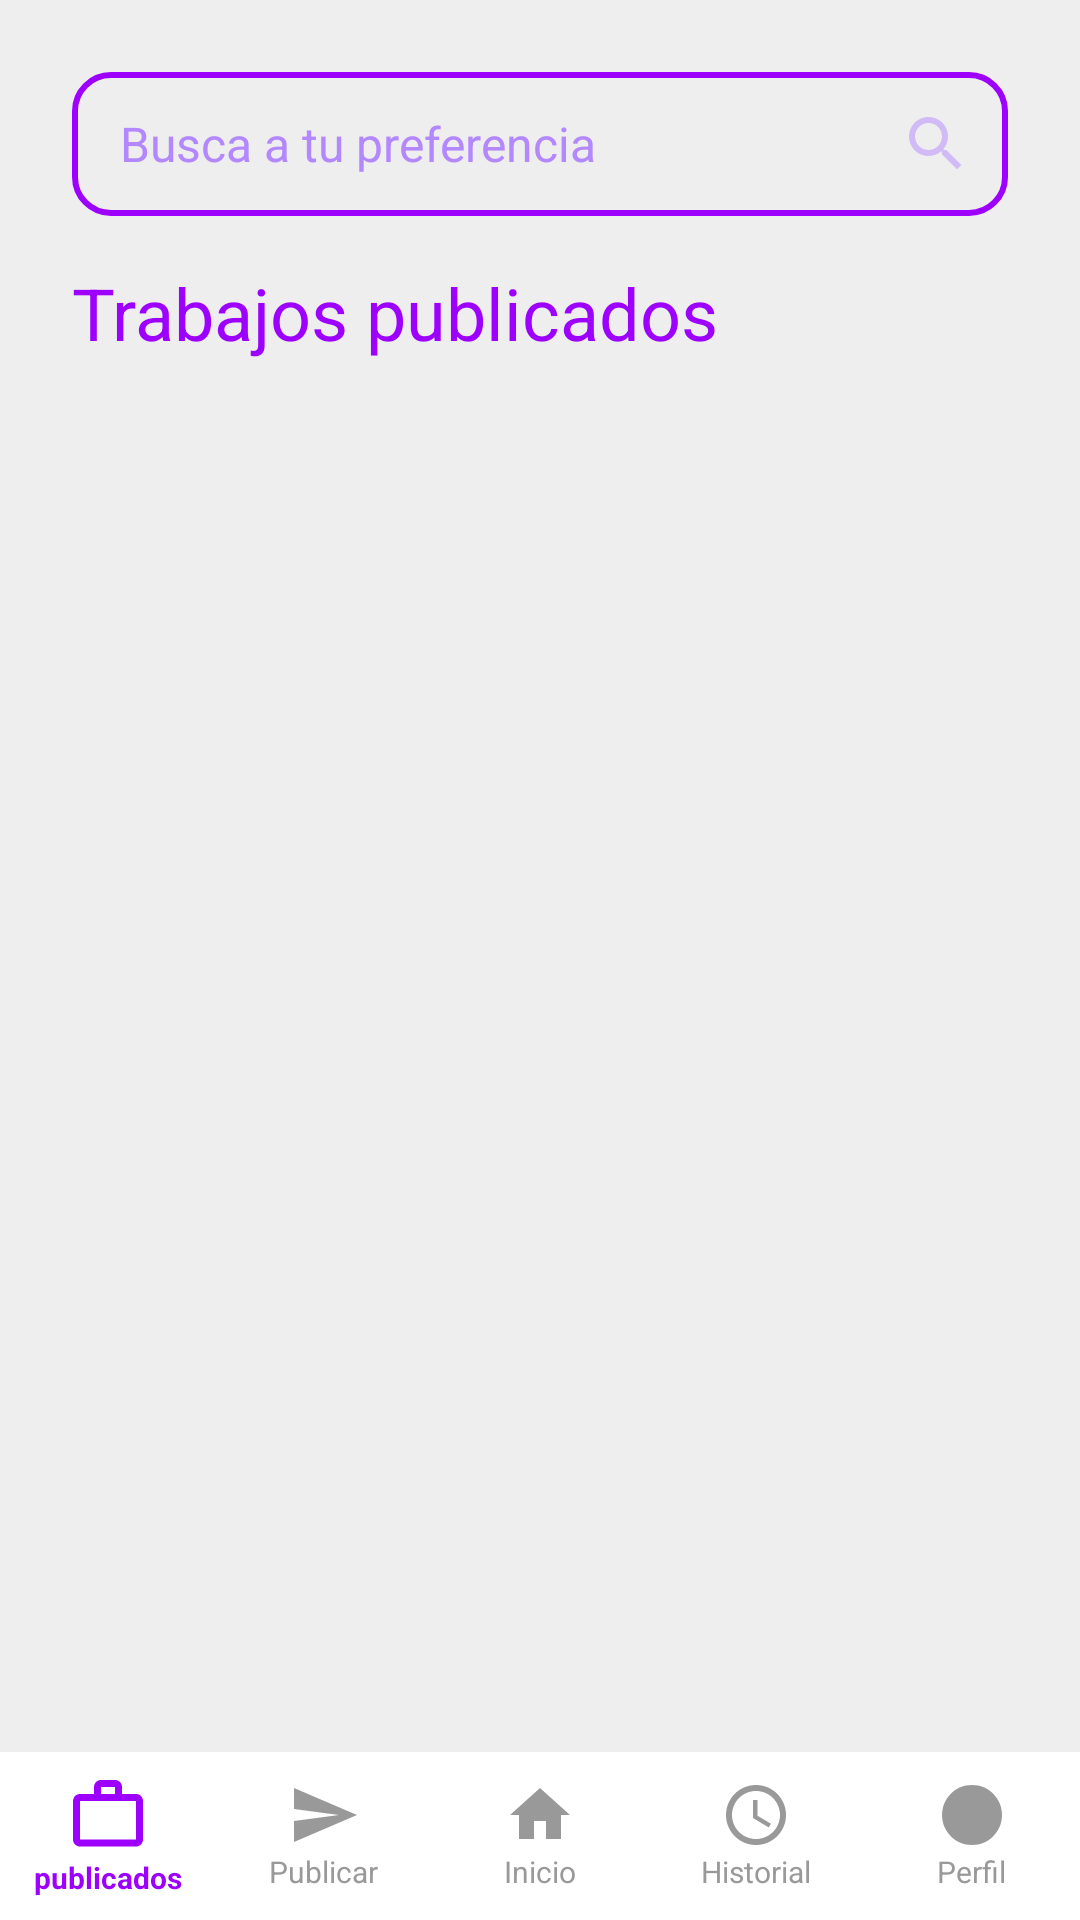

Icons on this 1080px×1920px Android screen, each with its box as (x1, y1, x2, y2):
briefcase: (73, 1780, 143, 1847)
clock: (726, 1785, 786, 1845)
paper plane: (294, 1788, 356, 1842)
search: (909, 117, 961, 169)
